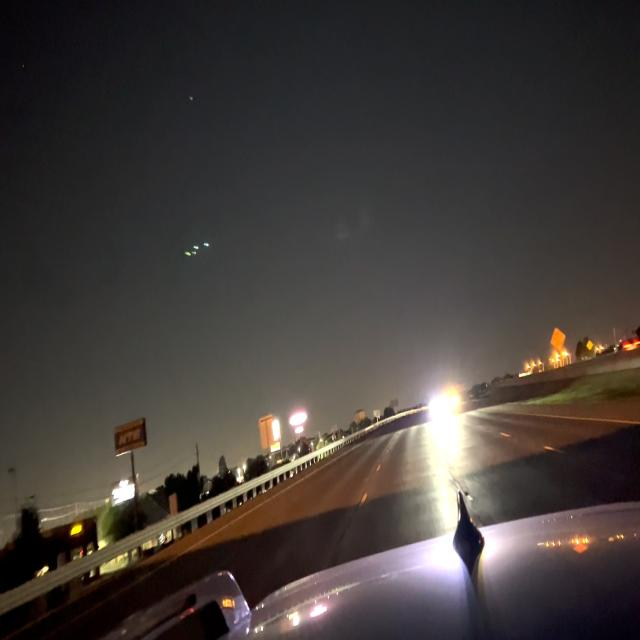back-of-sign: (258, 414, 274, 451)
